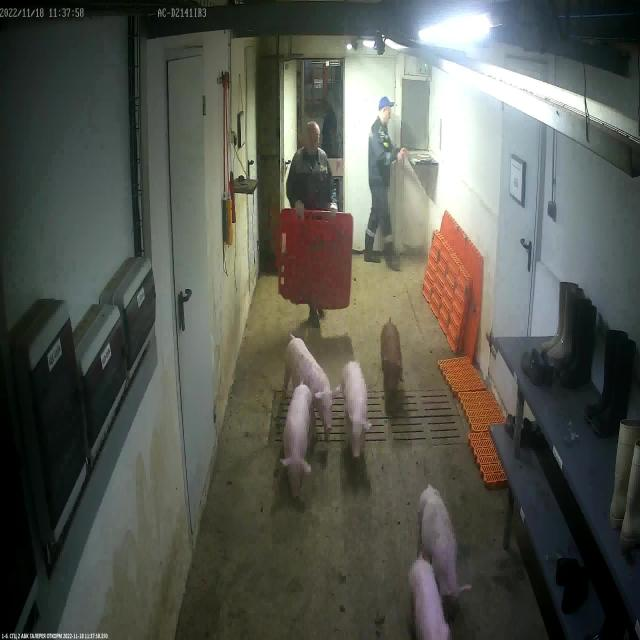pig: (420, 484, 472, 597), (286, 336, 340, 434), (280, 384, 312, 503), (410, 560, 452, 640), (344, 361, 370, 455), (384, 323, 403, 401)
